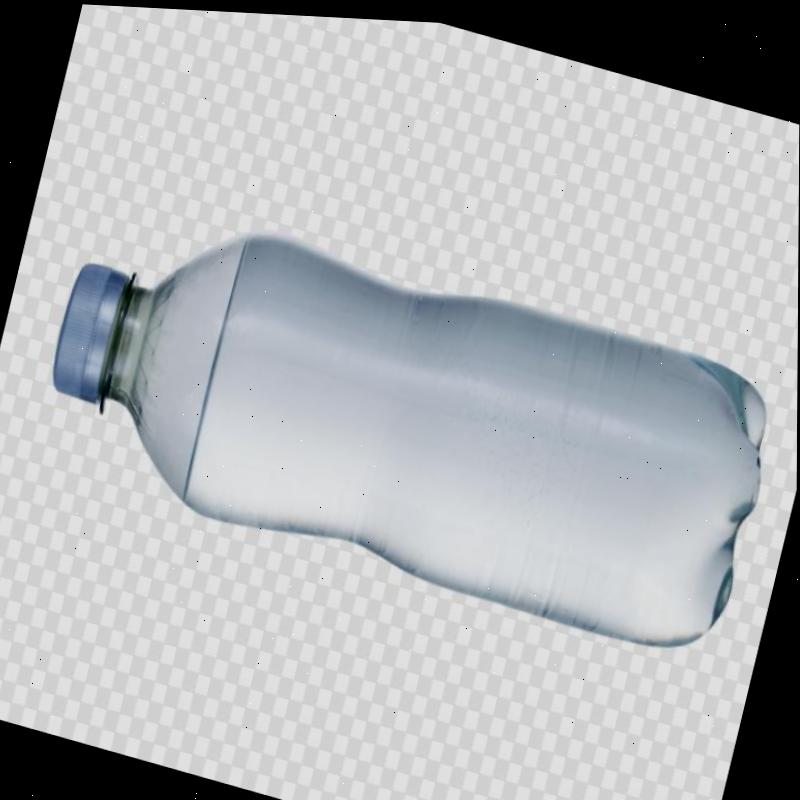botella: (22, 172, 794, 666)
